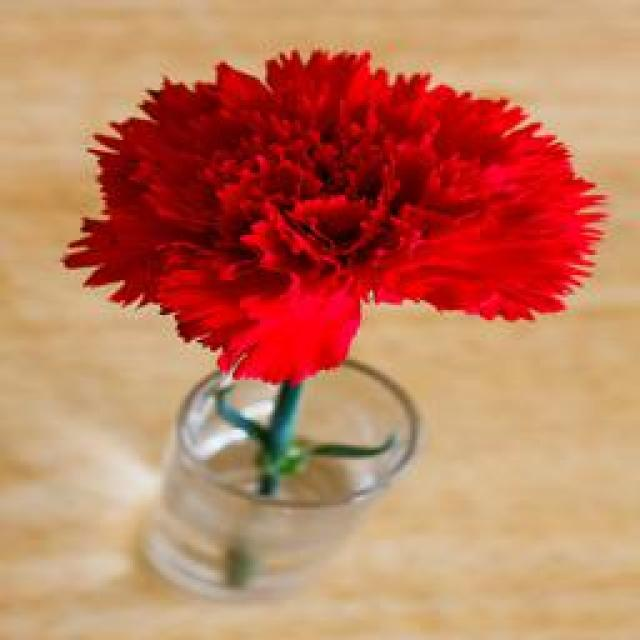carnation: (71, 40, 624, 365)
